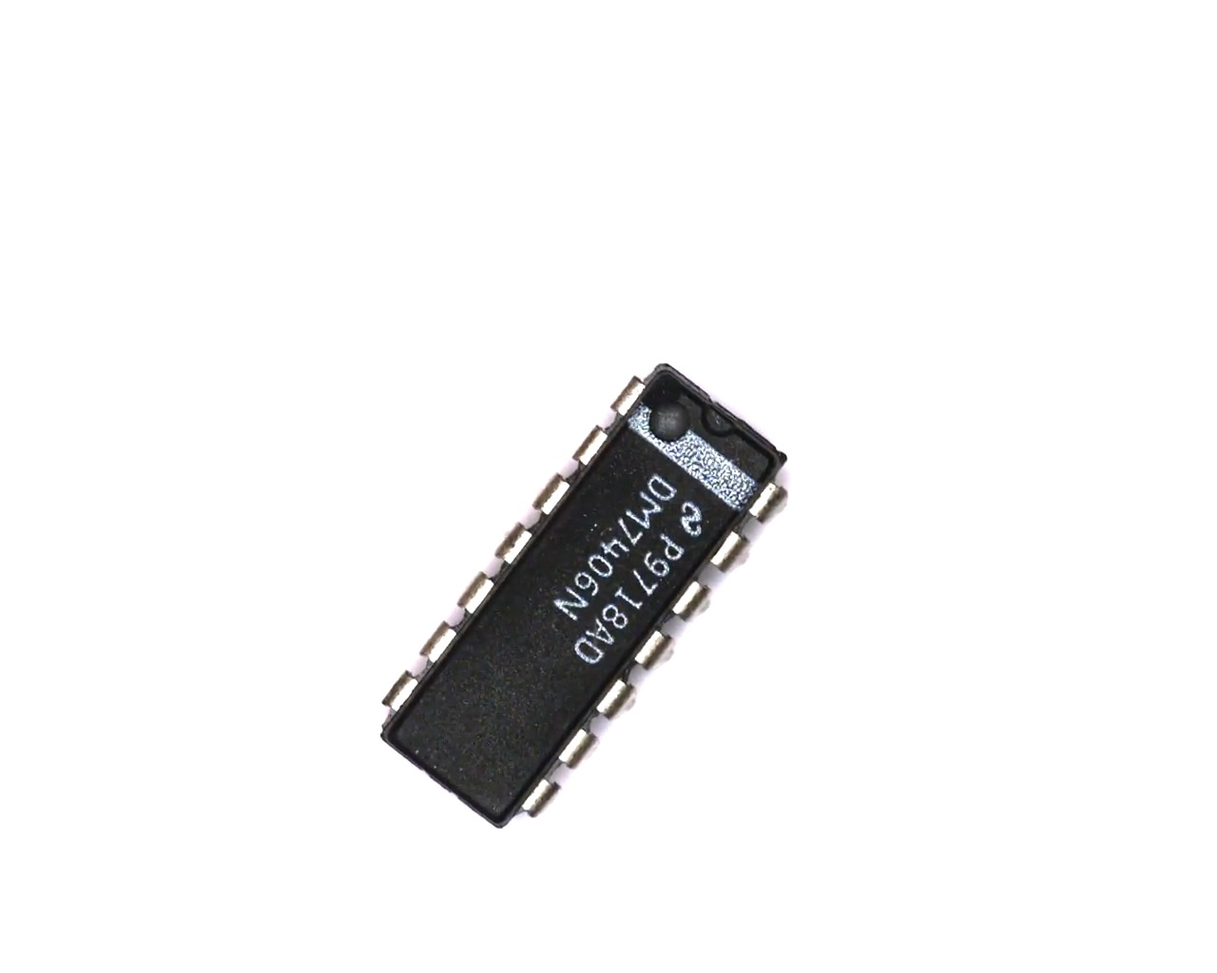IC: (348, 345, 825, 865)
notch: (694, 396, 740, 445)
